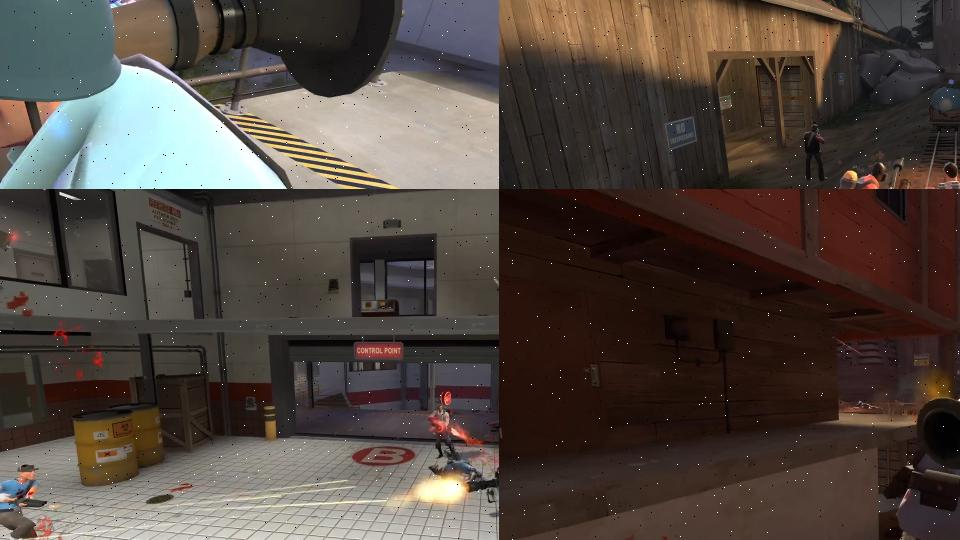Enemy: (0, 0, 409, 189), (888, 341, 960, 540), (0, 461, 50, 540), (464, 435, 499, 528), (830, 153, 914, 189), (425, 402, 463, 459), (800, 122, 831, 184)
